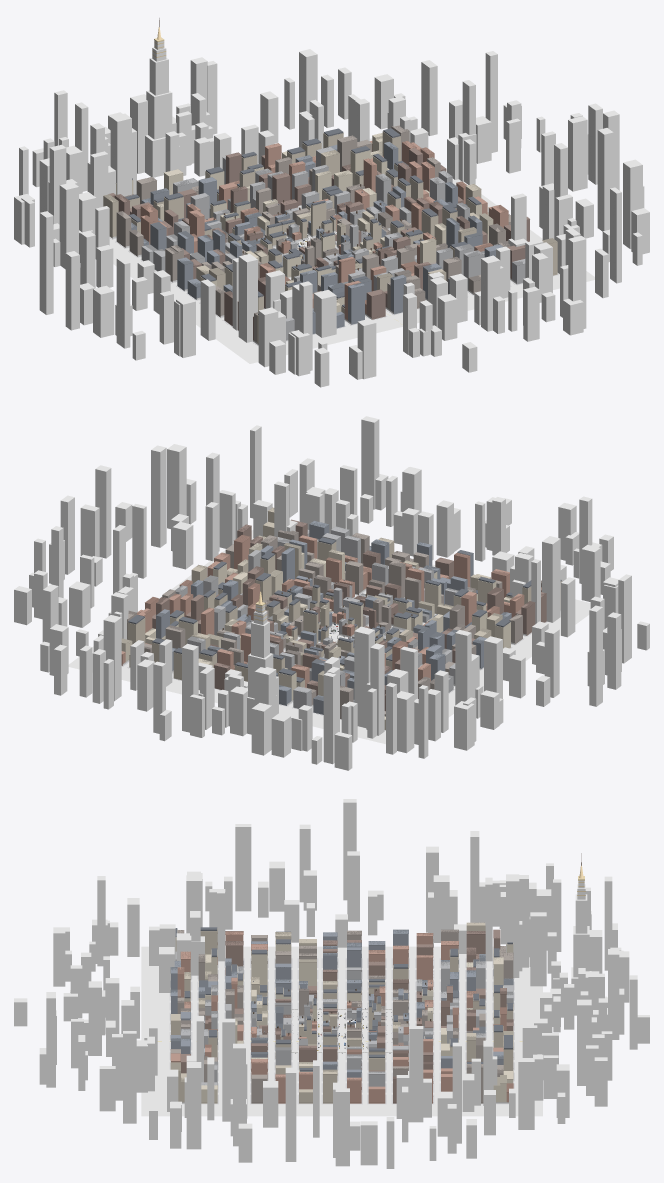
Rendered from city.glb.
3 renders of one model, top to bottom at view 1: azimuth 30°, elevation 25°; view 2: azimuth 150°, elevation 25°; view 3: azimuth 270°, elevation 25°, orthographic. The views are drawn at different scales.
Visible parts, largest first — view 1: skyline, build, ground; view 2: skyline, build, ground; view 3: skyline, build, ground, slab.
Part boxes in pixels (x1,y1,x2,y2): skyline: [14, 40, 649, 387]; build: [103, 125, 557, 343]; ground: [109, 138, 594, 363]; skyline: [14, 416, 649, 770]; build: [121, 507, 561, 729]; ground: [68, 530, 590, 744]; skyline: [14, 799, 649, 1168]; build: [170, 922, 513, 1103]; ground: [141, 946, 542, 1116]; slab: [169, 958, 514, 1104].
Size of the model in its own units: 1508 by 412 by 1488.
